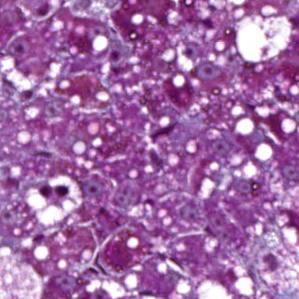ballooning: (24, 171, 85, 228), (234, 11, 293, 67)
